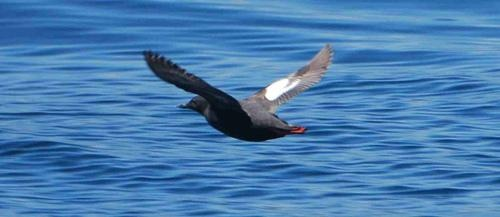bird: (142, 45, 337, 140)
